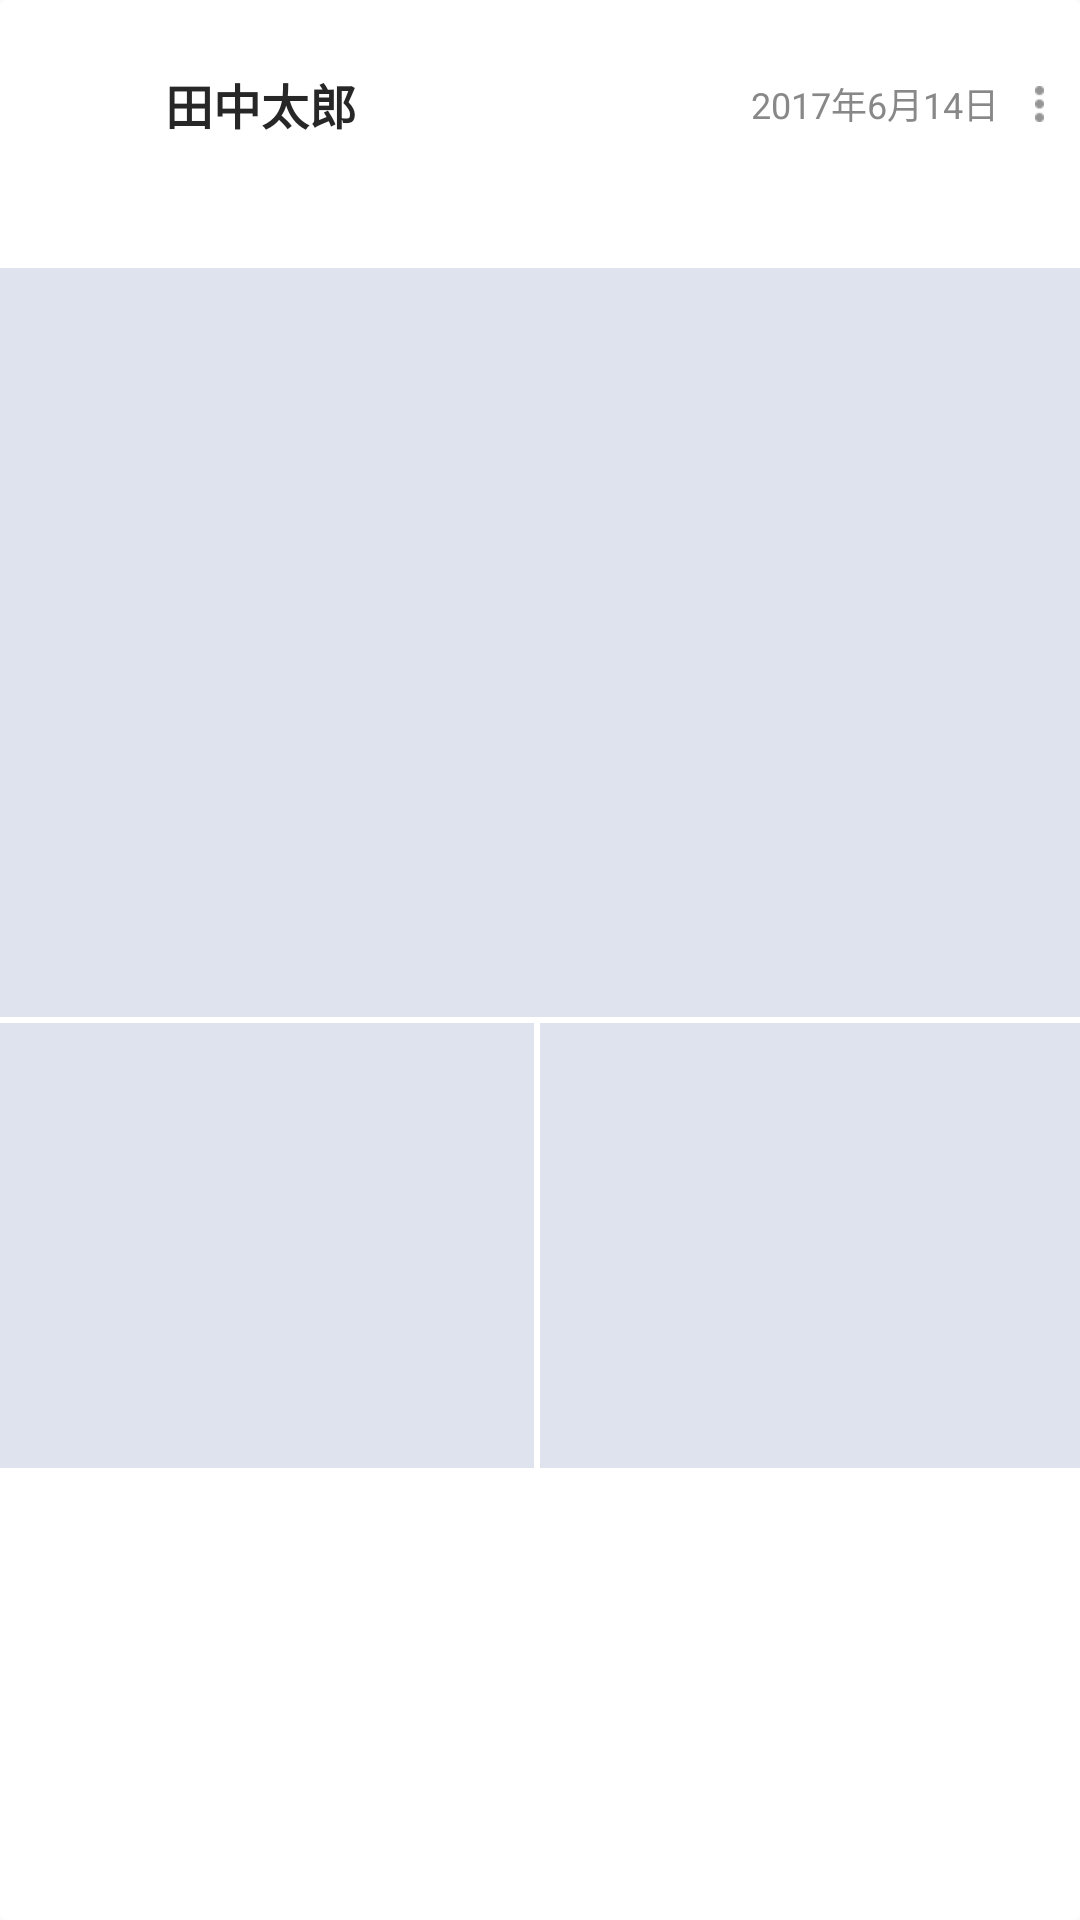

Point at icon controls on the screen. Image size 1080w x 1920h, points as point (x, y).
more: point (1039, 104)
